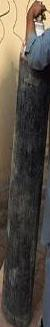cylinder: (1, 1, 50, 327)
